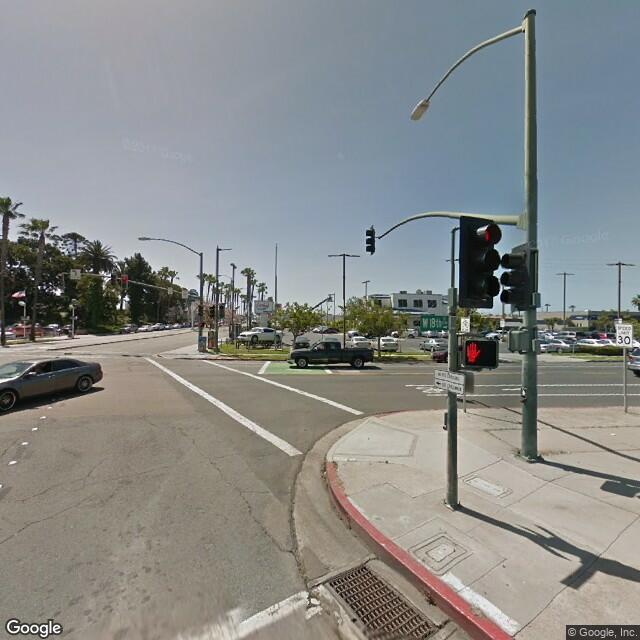litter: (606, 432, 619, 439)
